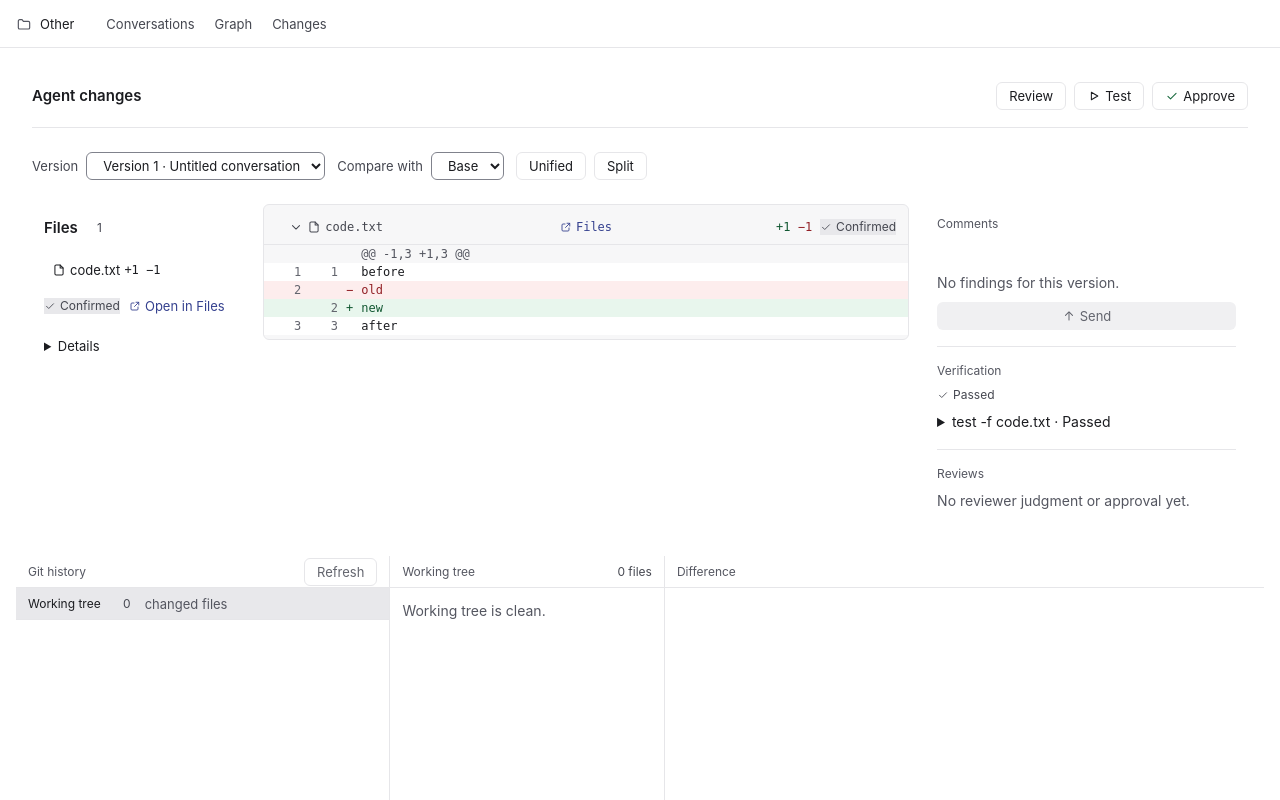
Test: renders the file list, numbered additions and removals, attribution and acceptance results
The width and height of the screenshot is (1280, 800).
Expected: the button "code.txt +1 −1" is shown, [44,252,235,288]
Expected: the button with aria-label "Comment on code.txt new line 2" reads "new", [361,299,900,317]
Click the heading "test -f code.txt · Passed".
click(1031, 422)  # box [952,413,1110,430]
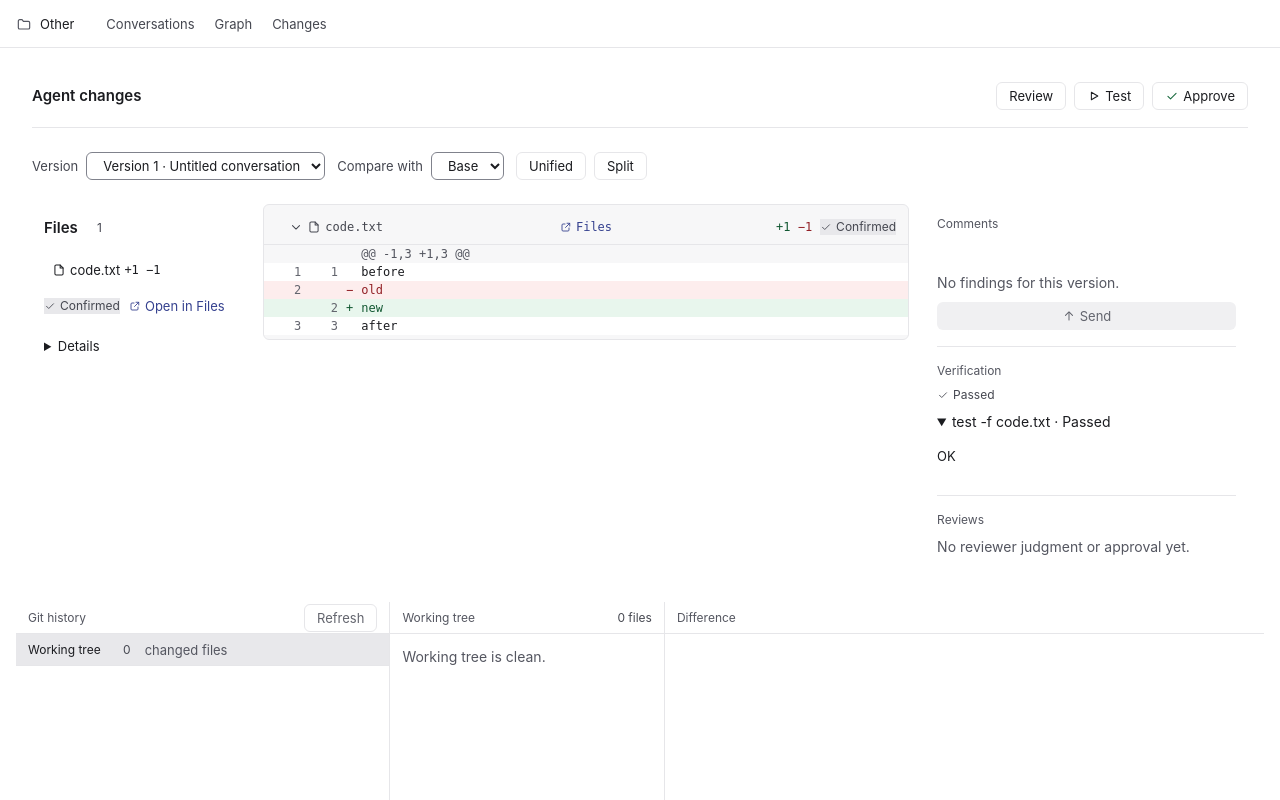
Expected: the text "OK" is shown, [937,448,956,464]
